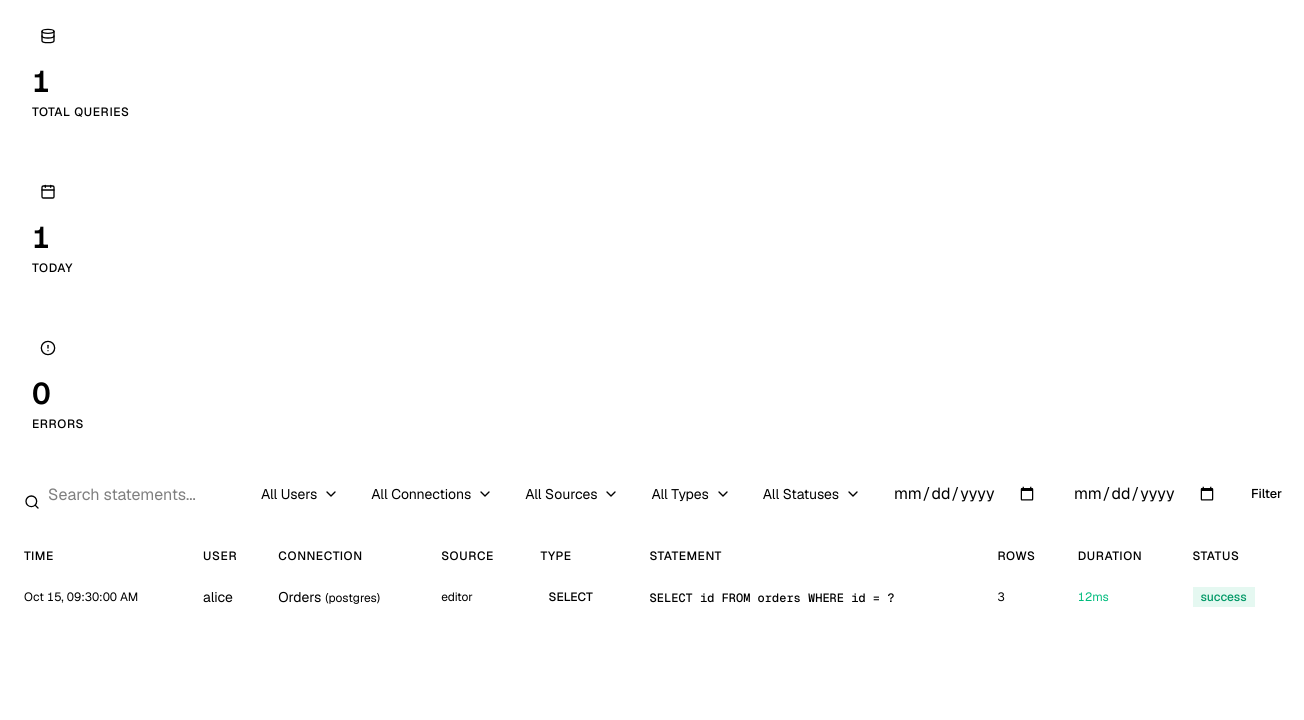
AuditLogTable › shows an error banner when the fetch fails
This screenshot has width=1304, height=720.
Click the button "Filter": click(1267, 494) [1241, 478, 1292, 510]
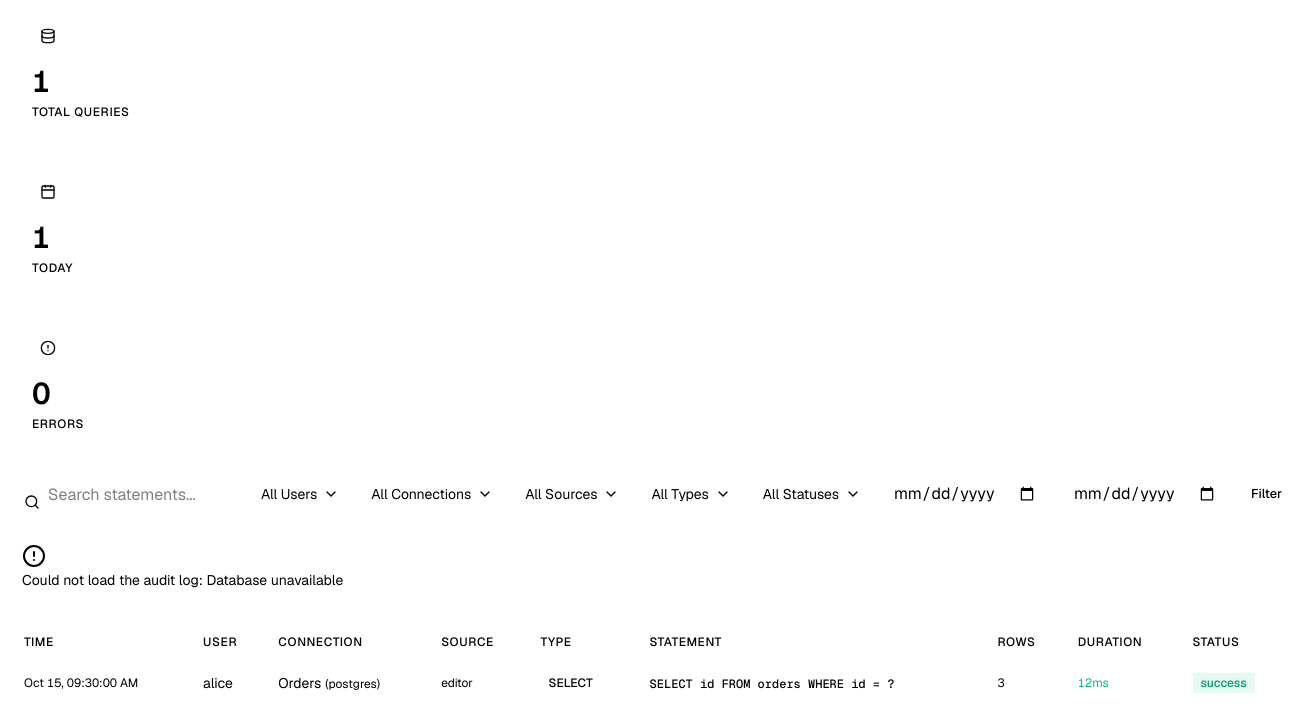
Expected: the button "SELECT id FROM orders WHERE id = ?" is shown, [650, 676, 894, 692]
Result: the message shows "Database unavailable" at [206, 571, 343, 589]
